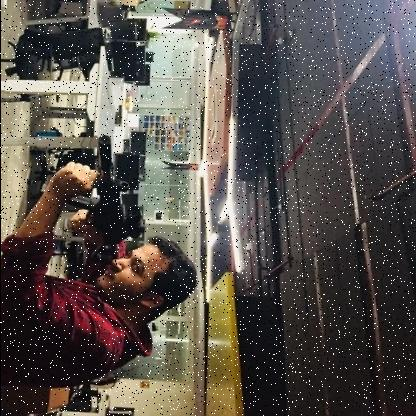rifle: (62, 134, 146, 268)
